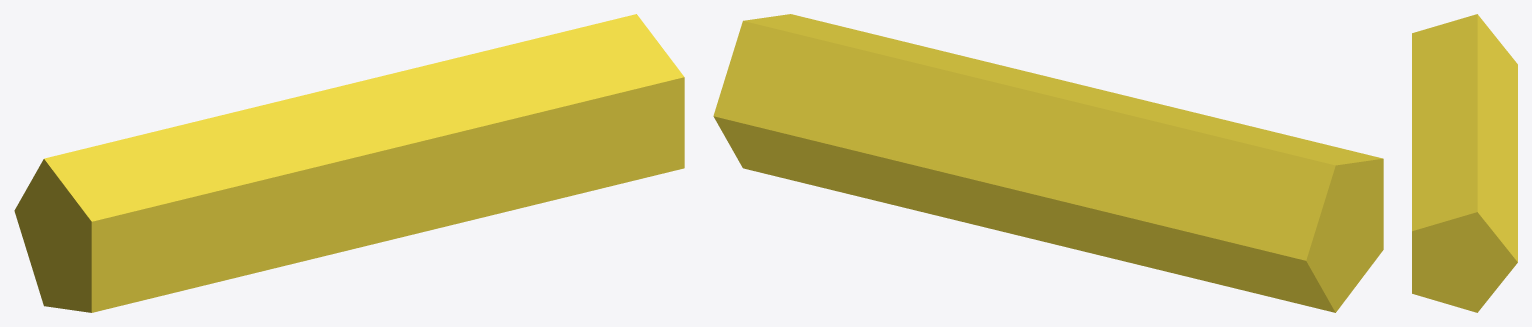
The model's file is pen-back.fbx.
3 renders of one model, left to right at view 1: azimuth 30°, elevation 25°; view 2: azimuth 150°, elevation 25°; view 3: azimuth 270°, elevation 25°, orthographic. The views are drawn at different scales.
Parts seen in each view (by area): view 1: Cylinder.002; view 2: Cylinder.002; view 3: Cylinder.002.
Part boxes in pixels (x1,y1,x2,y2): Cylinder.002: (14,14,684,312); Cylinder.002: (713,14,1383,312); Cylinder.002: (1412,14,1517,312).
Size of the model in its own units: 115 by 27.39 by 26.05.
